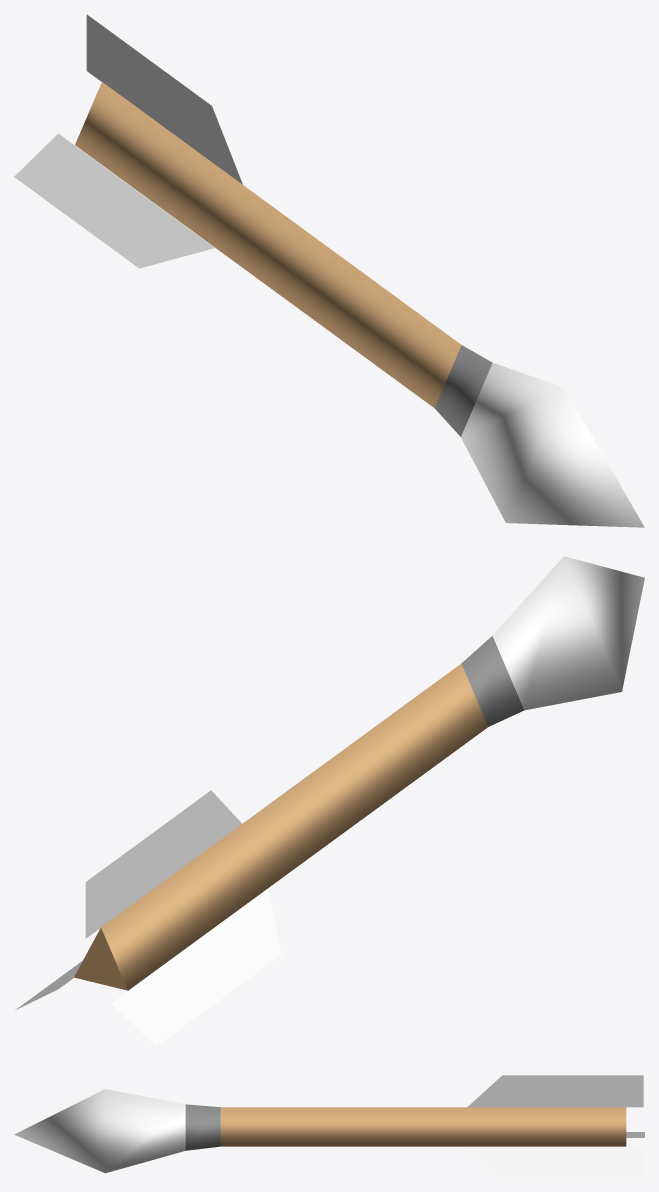
The model's file is 2b325aee-07d1-40ae-b87a-a58b516aa389.glb.
The picture shows the model from 3 angles, top to bottom: view 1: azimuth 30°, elevation 25°; view 2: azimuth 150°, elevation 25°; view 3: azimuth 270°, elevation 25°; orthographic projection. The views are drawn at different scales.
Parts seen in each view (by area): view 1: Wood, Arrowhead, Feather2, Feather3, Thingy; view 2: Wood, Arrowhead, Feather2, Feather3, Thingy; view 3: Wood, Arrowhead, Feather3, Feather1, Thingy.
Boxes of the visible parts, <box> form: Wood: <box>75,82,461,407</box>; Arrowhead: <box>461,363,644,527</box>; Feather2: <box>14,133,214,268</box>; Feather3: <box>86,14,242,184</box>; Thingy: <box>434,345,492,436</box>; Wood: <box>74,664,488,990</box>; Arrowhead: <box>492,556,644,710</box>; Feather2: <box>112,888,281,1046</box>; Feather3: <box>85,790,241,938</box>; Thingy: <box>461,636,524,726</box>; Wood: <box>220,1107,626,1146</box>; Arrowhead: <box>14,1089,185,1173</box>; Feather3: <box>467,1075,643,1107</box>; Feather1: <box>467,1147,643,1177</box>; Thingy: <box>185,1104,220,1150</box>.
Bounding box in the file's own units: 0.0527 × 0.0515 × 0.3572.
